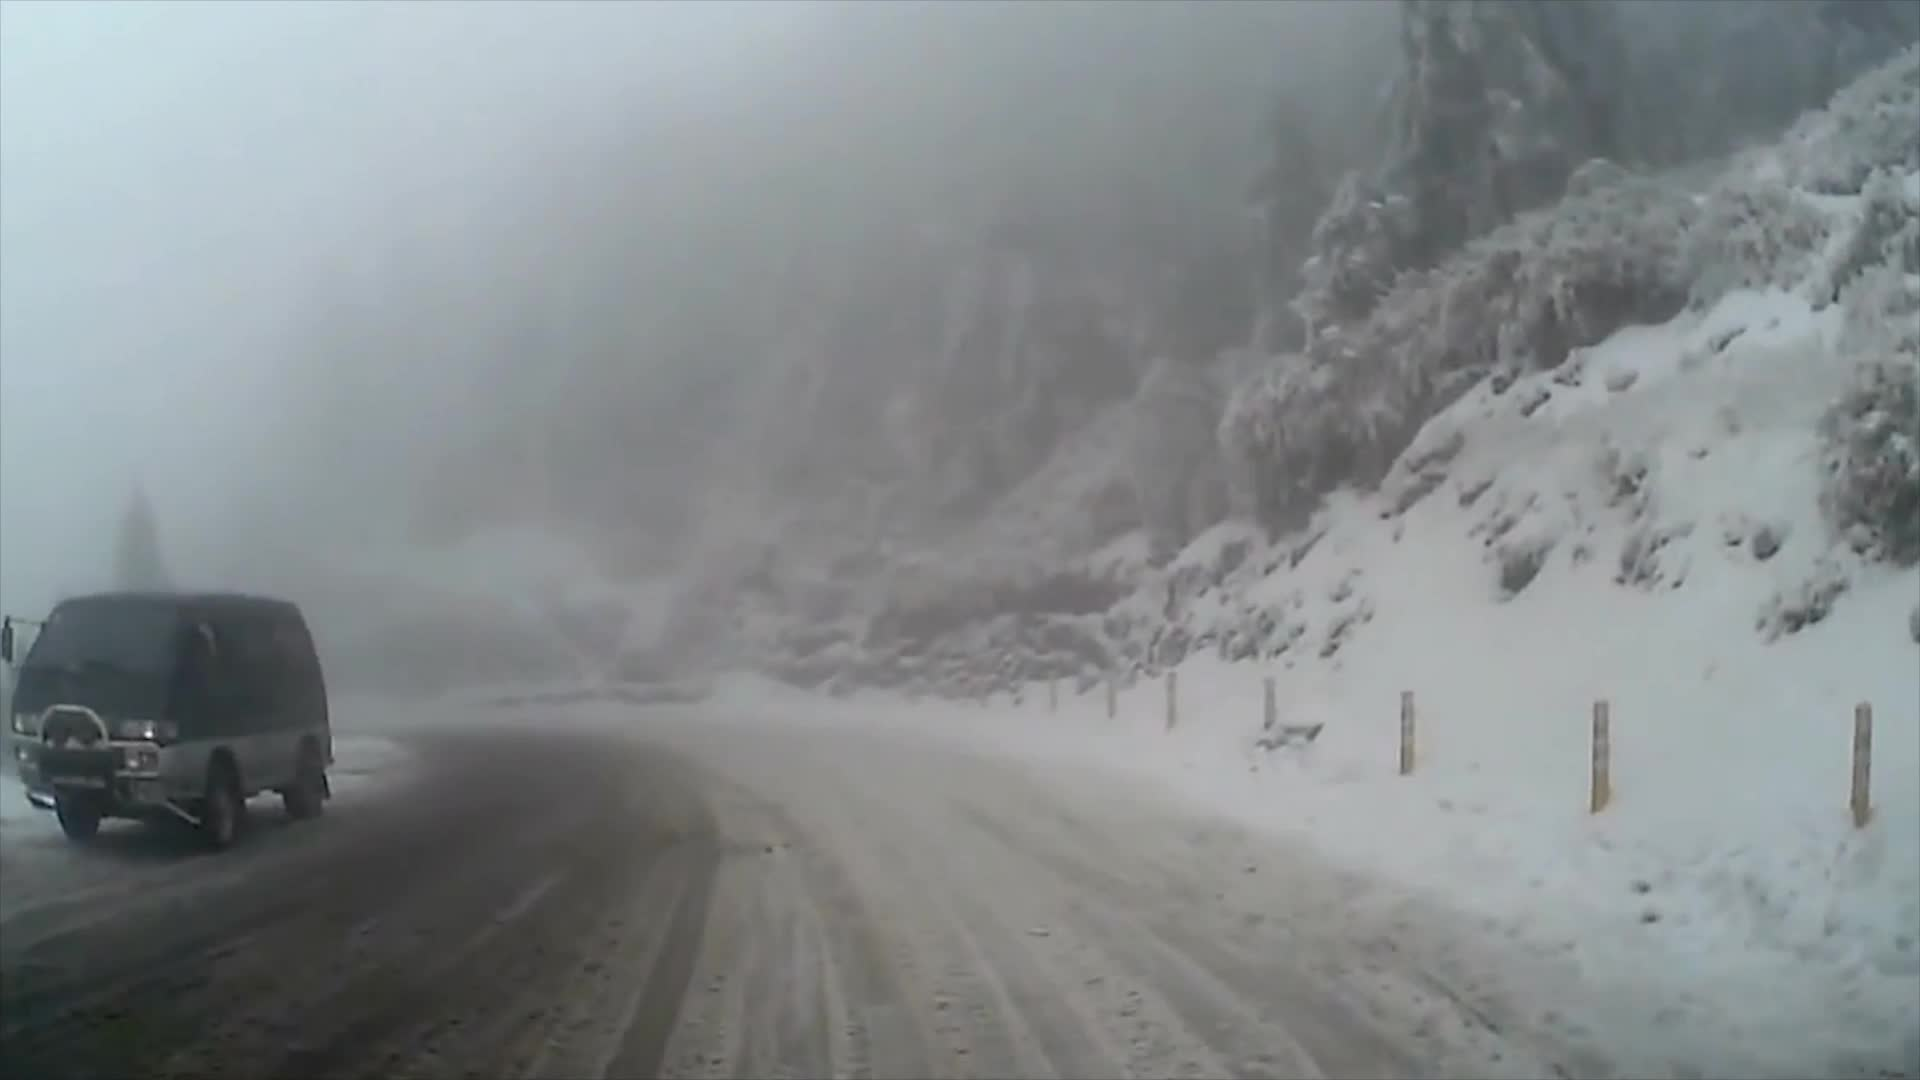vehicle: (5, 585, 334, 847)
